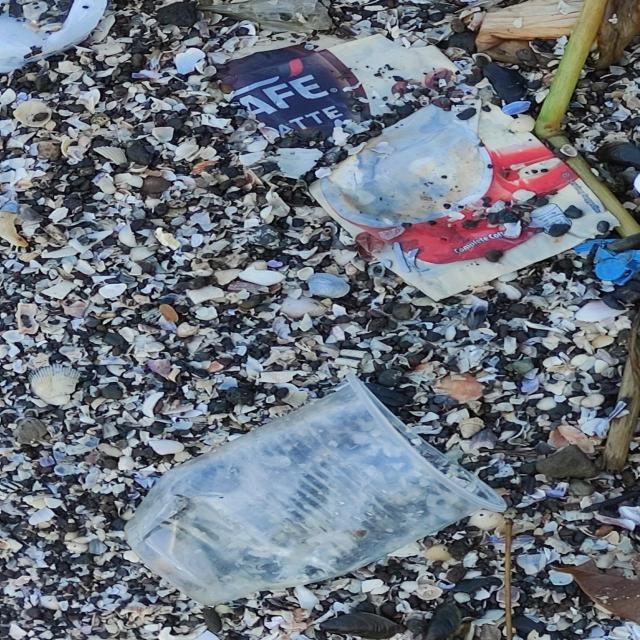litter: (222, 29, 636, 303), (124, 368, 507, 604)
